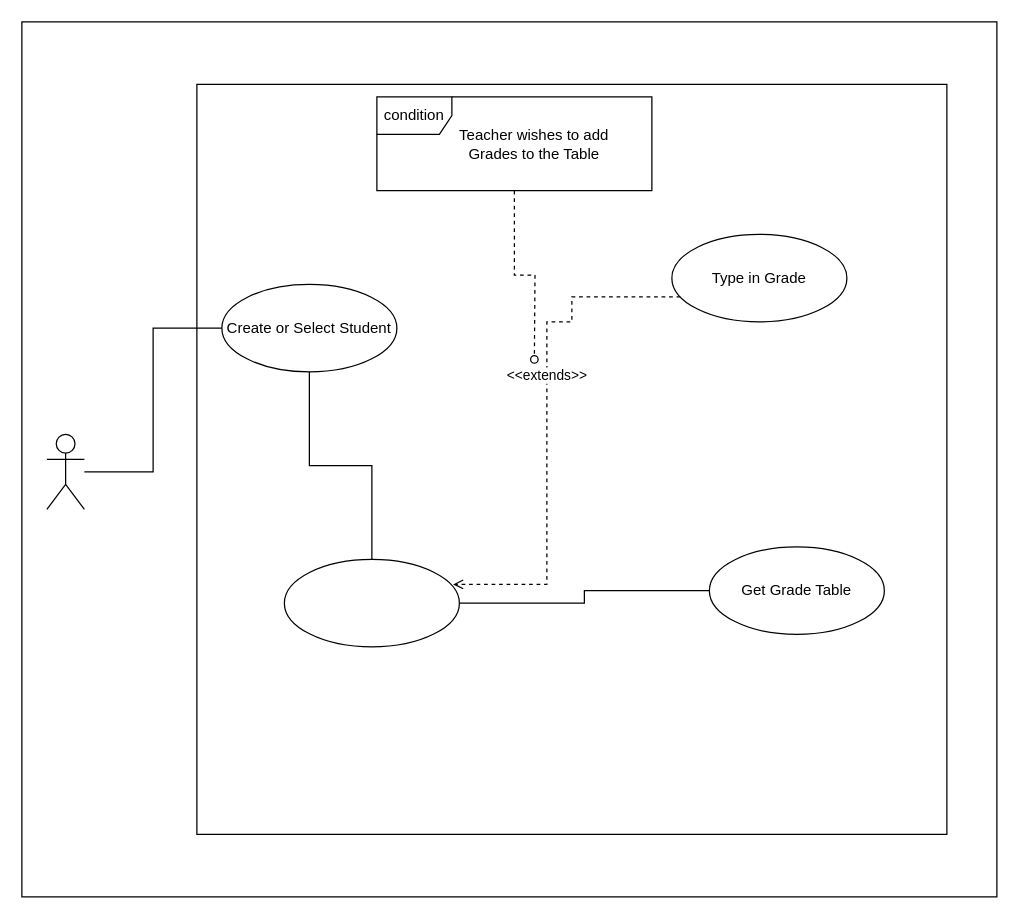
The diagram is 1019 pixels wide and 919 high, and some of its shapes have lost their labels. The shapes that lost their labels are listed below. From the top down, each one's centre as x and y in pixels, then its label:
At pixel 65 471: "Teacher".
At pixel 371 602: "Create or Select Course".
